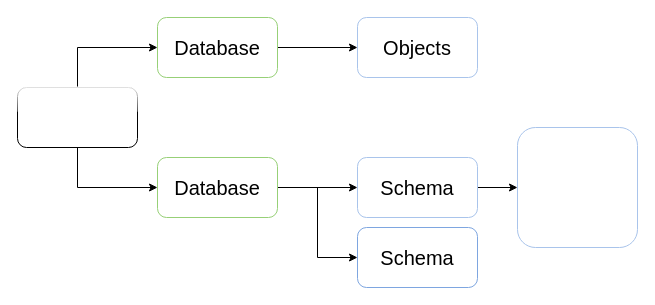
The diagram is 655 pixels wide and 305 high, and some of its shapes have lost their labels. The centre of each missing label's shape, as x and y in pixels:
"DBMS" belongs at point 77,117.
"Tables Views ..." belongs at point 577,187.
